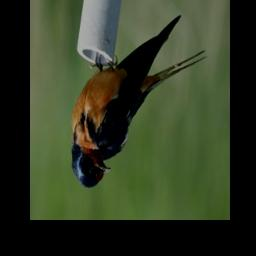Swallow: (70, 18, 207, 192)
